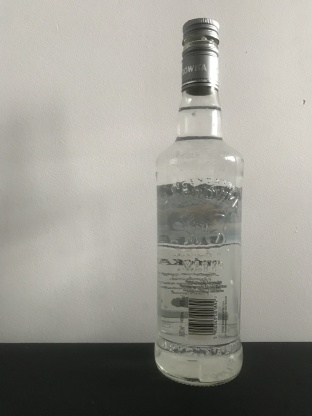nakretka: (180, 15, 220, 96)
